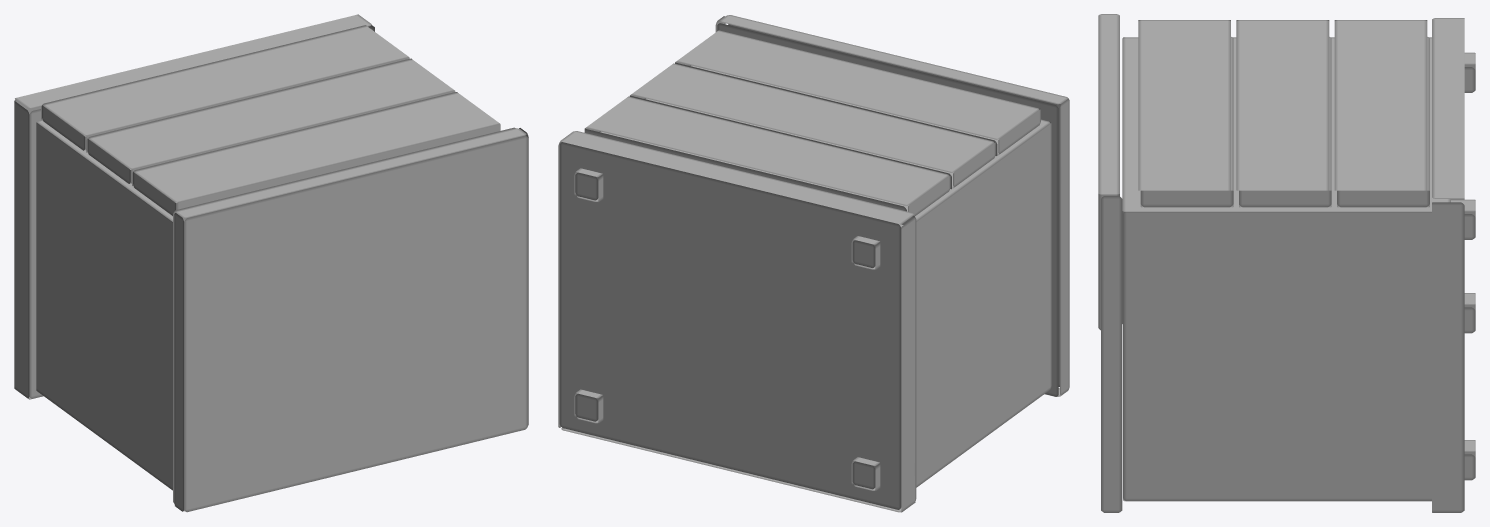
File: pz_drawer_storage_01_fancy_oak.obj
3 renders of one model, left to right at view 1: azimuth 30°, elevation 25°; view 2: azimuth 150°, elevation 25°; view 3: azimuth 270°, elevation 25°, orthographic. The views are drawn at different scales.
Parts seen in each view (by area): view 1: root; view 2: root; view 3: root.
Boxes of the visible parts, left/top/right/bottom form: root: left=14, top=14, right=528, bottom=512; root: left=558, top=15, right=1069, bottom=512; root: left=1098, top=14, right=1475, bottom=512.
Size of the model in its own units: 0.99 by 0.805 by 0.8675.
1 material, 1 textured.
